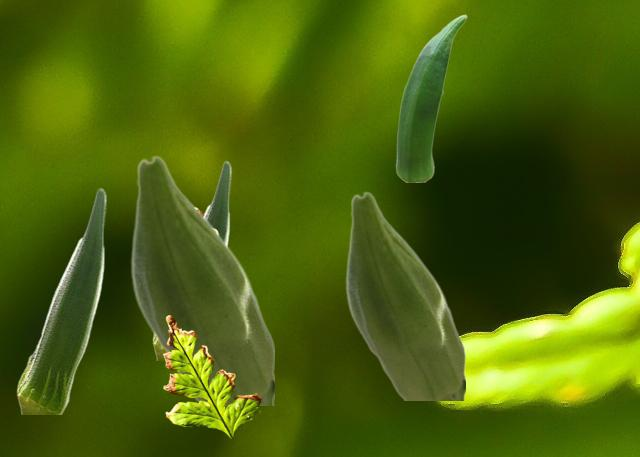okra: (130, 155, 273, 404), (345, 191, 464, 399), (16, 187, 105, 413), (152, 160, 230, 359), (395, 14, 466, 181)
